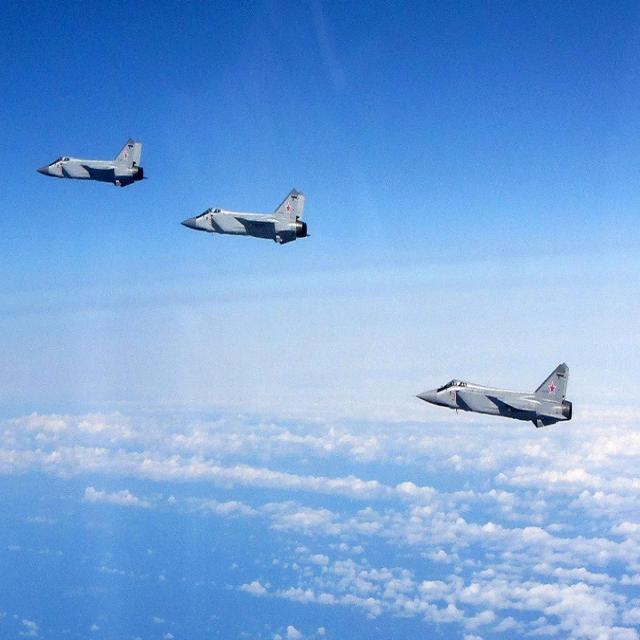MIL_Plane: (411, 361, 574, 429), (178, 187, 312, 246), (34, 136, 148, 188)
